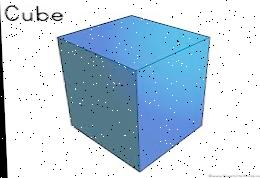cube: (59, 16, 213, 171)
